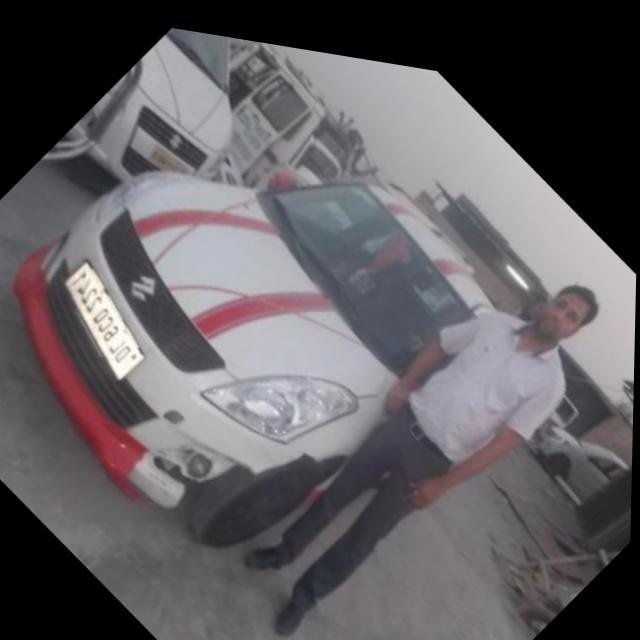crack: (248, 435, 323, 479), (142, 443, 204, 495)
dislocated part: (121, 431, 253, 519)
